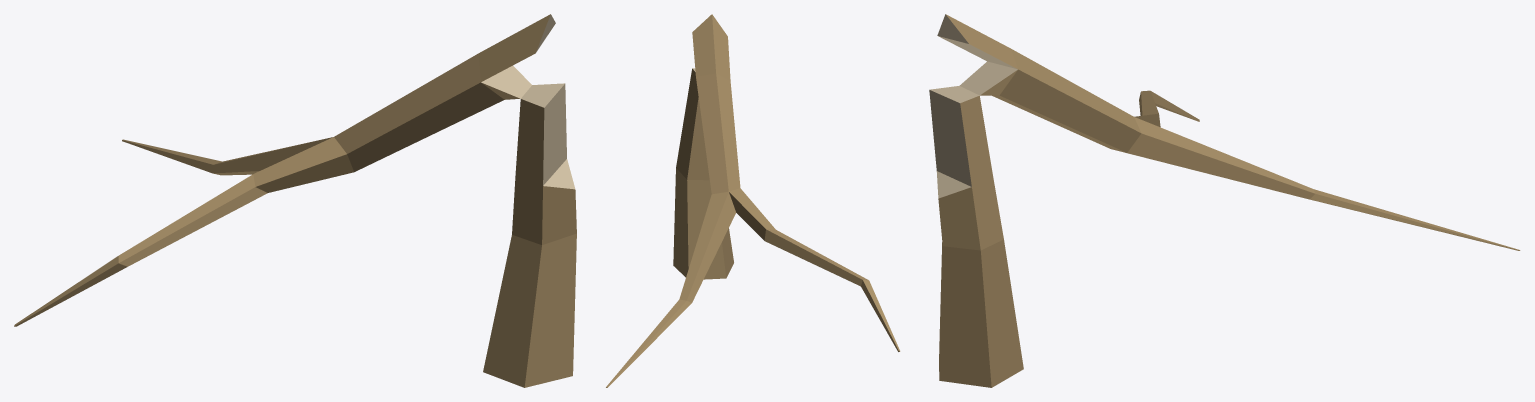
File: Apple_Tree_NoLeaves_crk_m_BT_01.fbx
The picture shows the model from 3 angles, left to right: view 1: azimuth 30°, elevation 25°; view 2: azimuth 150°, elevation 25°; view 3: azimuth 270°, elevation 25°; orthographic projection. The views are drawn at different scales.
Parts seen in each view (by area): view 1: Apple_Tree_NoLeaves_crk_m_BT_01; view 2: Apple_Tree_NoLeaves_crk_m_BT_01; view 3: Apple_Tree_NoLeaves_crk_m_BT_01.
Boxes of the visible parts, bbox=[...] form: Apple_Tree_NoLeaves_crk_m_BT_01: bbox=[14, 14, 576, 387]; Apple_Tree_NoLeaves_crk_m_BT_01: bbox=[606, 14, 900, 387]; Apple_Tree_NoLeaves_crk_m_BT_01: bbox=[929, 14, 1520, 387].
Bounding box in the file's own units: 247 × 194 × 290.
